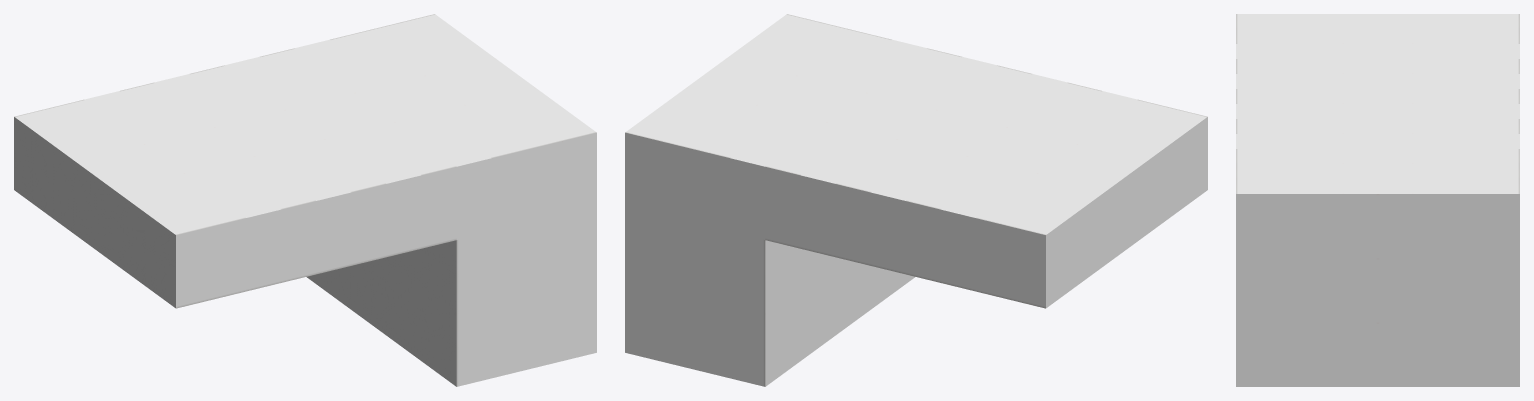
The model's file is crane_seat.obj.
The picture shows the model from 3 angles, left to right: view 1: azimuth 30°, elevation 25°; view 2: azimuth 150°, elevation 25°; view 3: azimuth 270°, elevation 25°; orthographic projection. The views are drawn at different scales.
Parts seen in each view (by area): view 1: Plane.001; view 2: Plane.001; view 3: Plane.001.
Part boxes in pixels (<box>): Plane.001: <box>14,14,596,386</box>; Plane.001: <box>625,14,1207,386</box>; Plane.001: <box>1236,14,1519,386</box>.
Bounding box in the file's own units: 6 × 3 × 4.
1 material, 1 textured.
